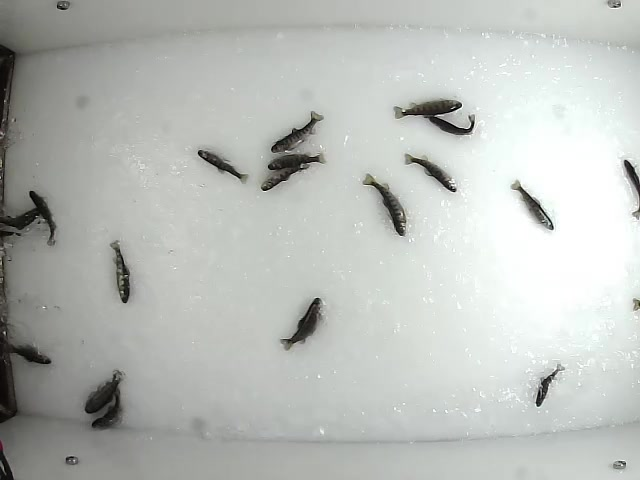fish: (361, 171, 409, 238), (507, 177, 557, 232), (278, 295, 323, 353), (403, 151, 459, 196), (269, 110, 325, 154), (195, 148, 251, 187), (82, 366, 125, 414), (87, 382, 126, 431), (28, 188, 59, 249), (259, 157, 307, 192), (109, 238, 134, 305), (532, 359, 565, 408), (393, 99, 464, 121), (423, 110, 477, 138), (618, 153, 640, 219), (264, 149, 327, 172), (1, 340, 55, 366)
